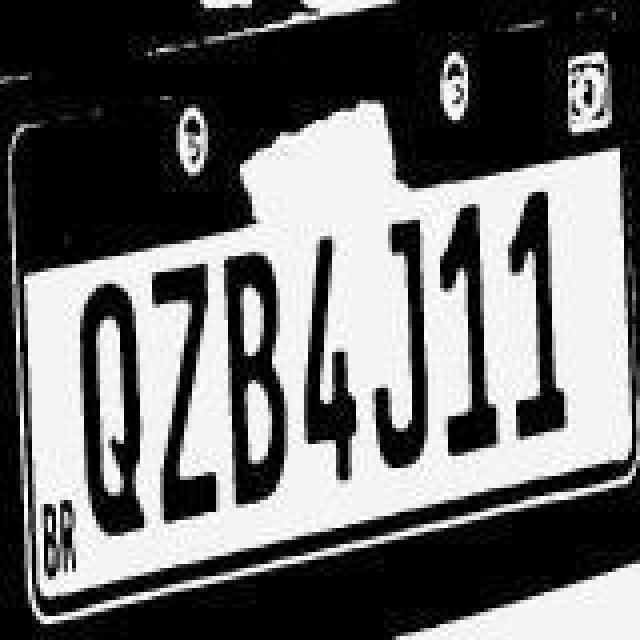1: (436, 202, 500, 462), (508, 188, 572, 436)
4: (298, 236, 366, 484)
B: (222, 248, 290, 504)
J: (372, 214, 436, 474)
Q: (76, 286, 148, 538)
Z: (150, 258, 218, 518)
